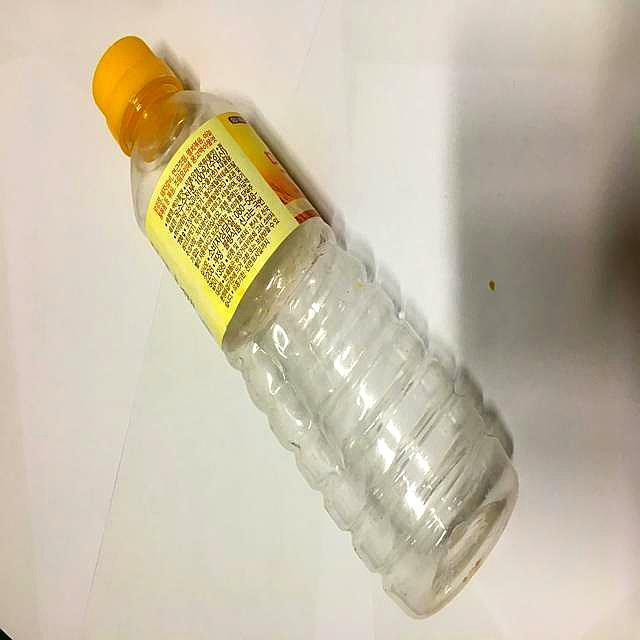Non-biodegradable: (45, 1, 539, 640)
